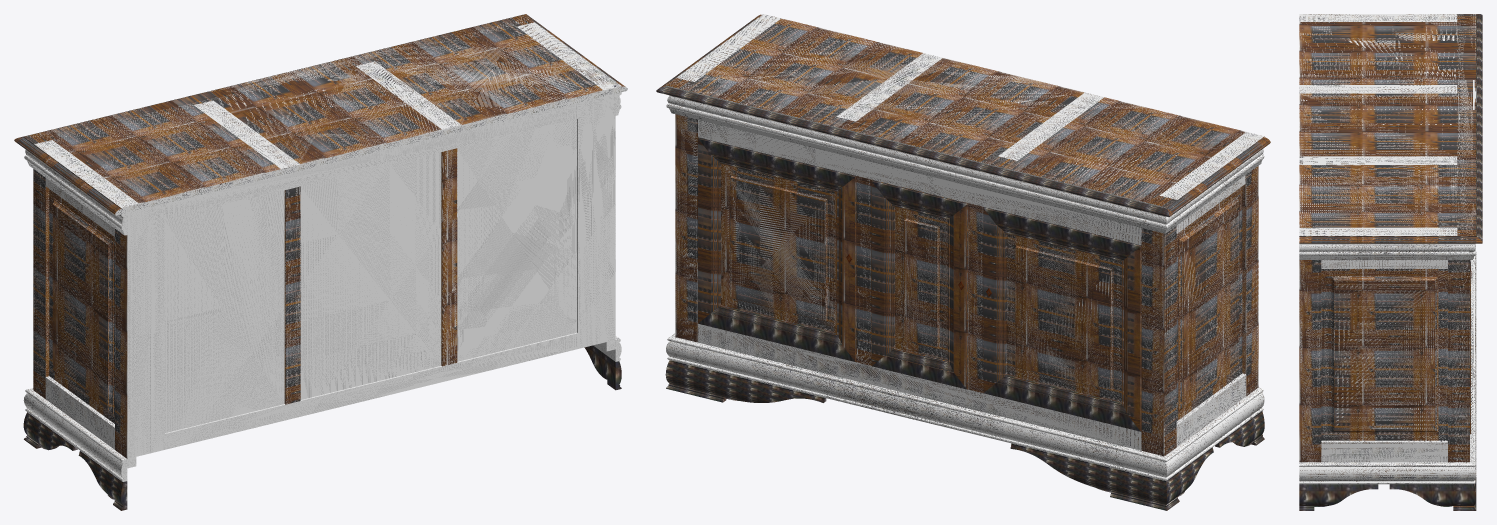
3 views of the same model, side by side, from view 1: azimuth 30°, elevation 25°; view 2: azimuth 150°, elevation 25°; view 3: azimuth 270°, elevation 25° (orthographic). The views are drawn at different scales.
Parts seen in each view (by area): view 1: mesh12_mesh12-geometry, mesh4_mesh4-geometry, mesh5_mesh5-geometry; view 2: mesh12_mesh12-geometry, mesh4_mesh4-geometry, mesh5_mesh5-geometry; view 3: mesh12_mesh12-geometry, mesh5_mesh5-geometry.
Boxes of the visible parts, left/top/right/bottom form: mesh12_mesh12-geometry: left=14, top=14, right=627, bottom=510; mesh4_mesh4-geometry: left=33, top=169, right=149, bottom=458; mesh5_mesh5-geometry: left=593, top=94, right=615, bottom=345; mesh12_mesh12-geometry: left=656, top=14, right=1270, bottom=510; mesh4_mesh4-geometry: left=1141, top=166, right=1258, bottom=456; mesh5_mesh5-geometry: left=675, top=114, right=697, bottom=342; mesh12_mesh12-geometry: left=1299, top=14, right=1482, bottom=510; mesh5_mesh5-geometry: left=1299, top=260, right=1469, bottom=462.
Bounding box in the file's own units: 0.8347 × 0.4713 × 0.2848.
